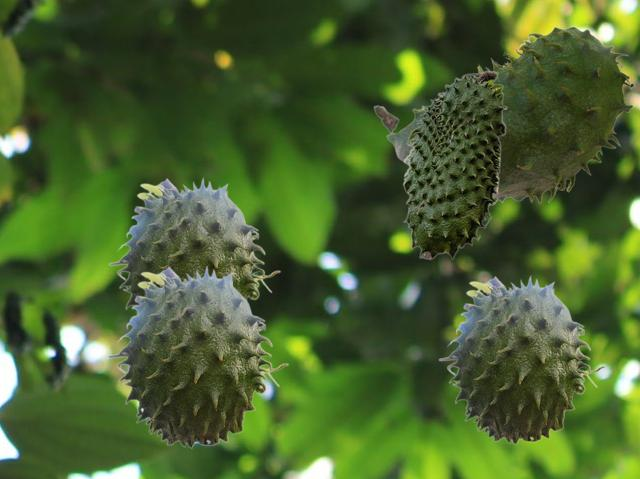guyabano: (373, 26, 633, 204), (107, 264, 288, 448), (438, 274, 605, 444), (108, 176, 280, 313), (402, 70, 506, 259)
